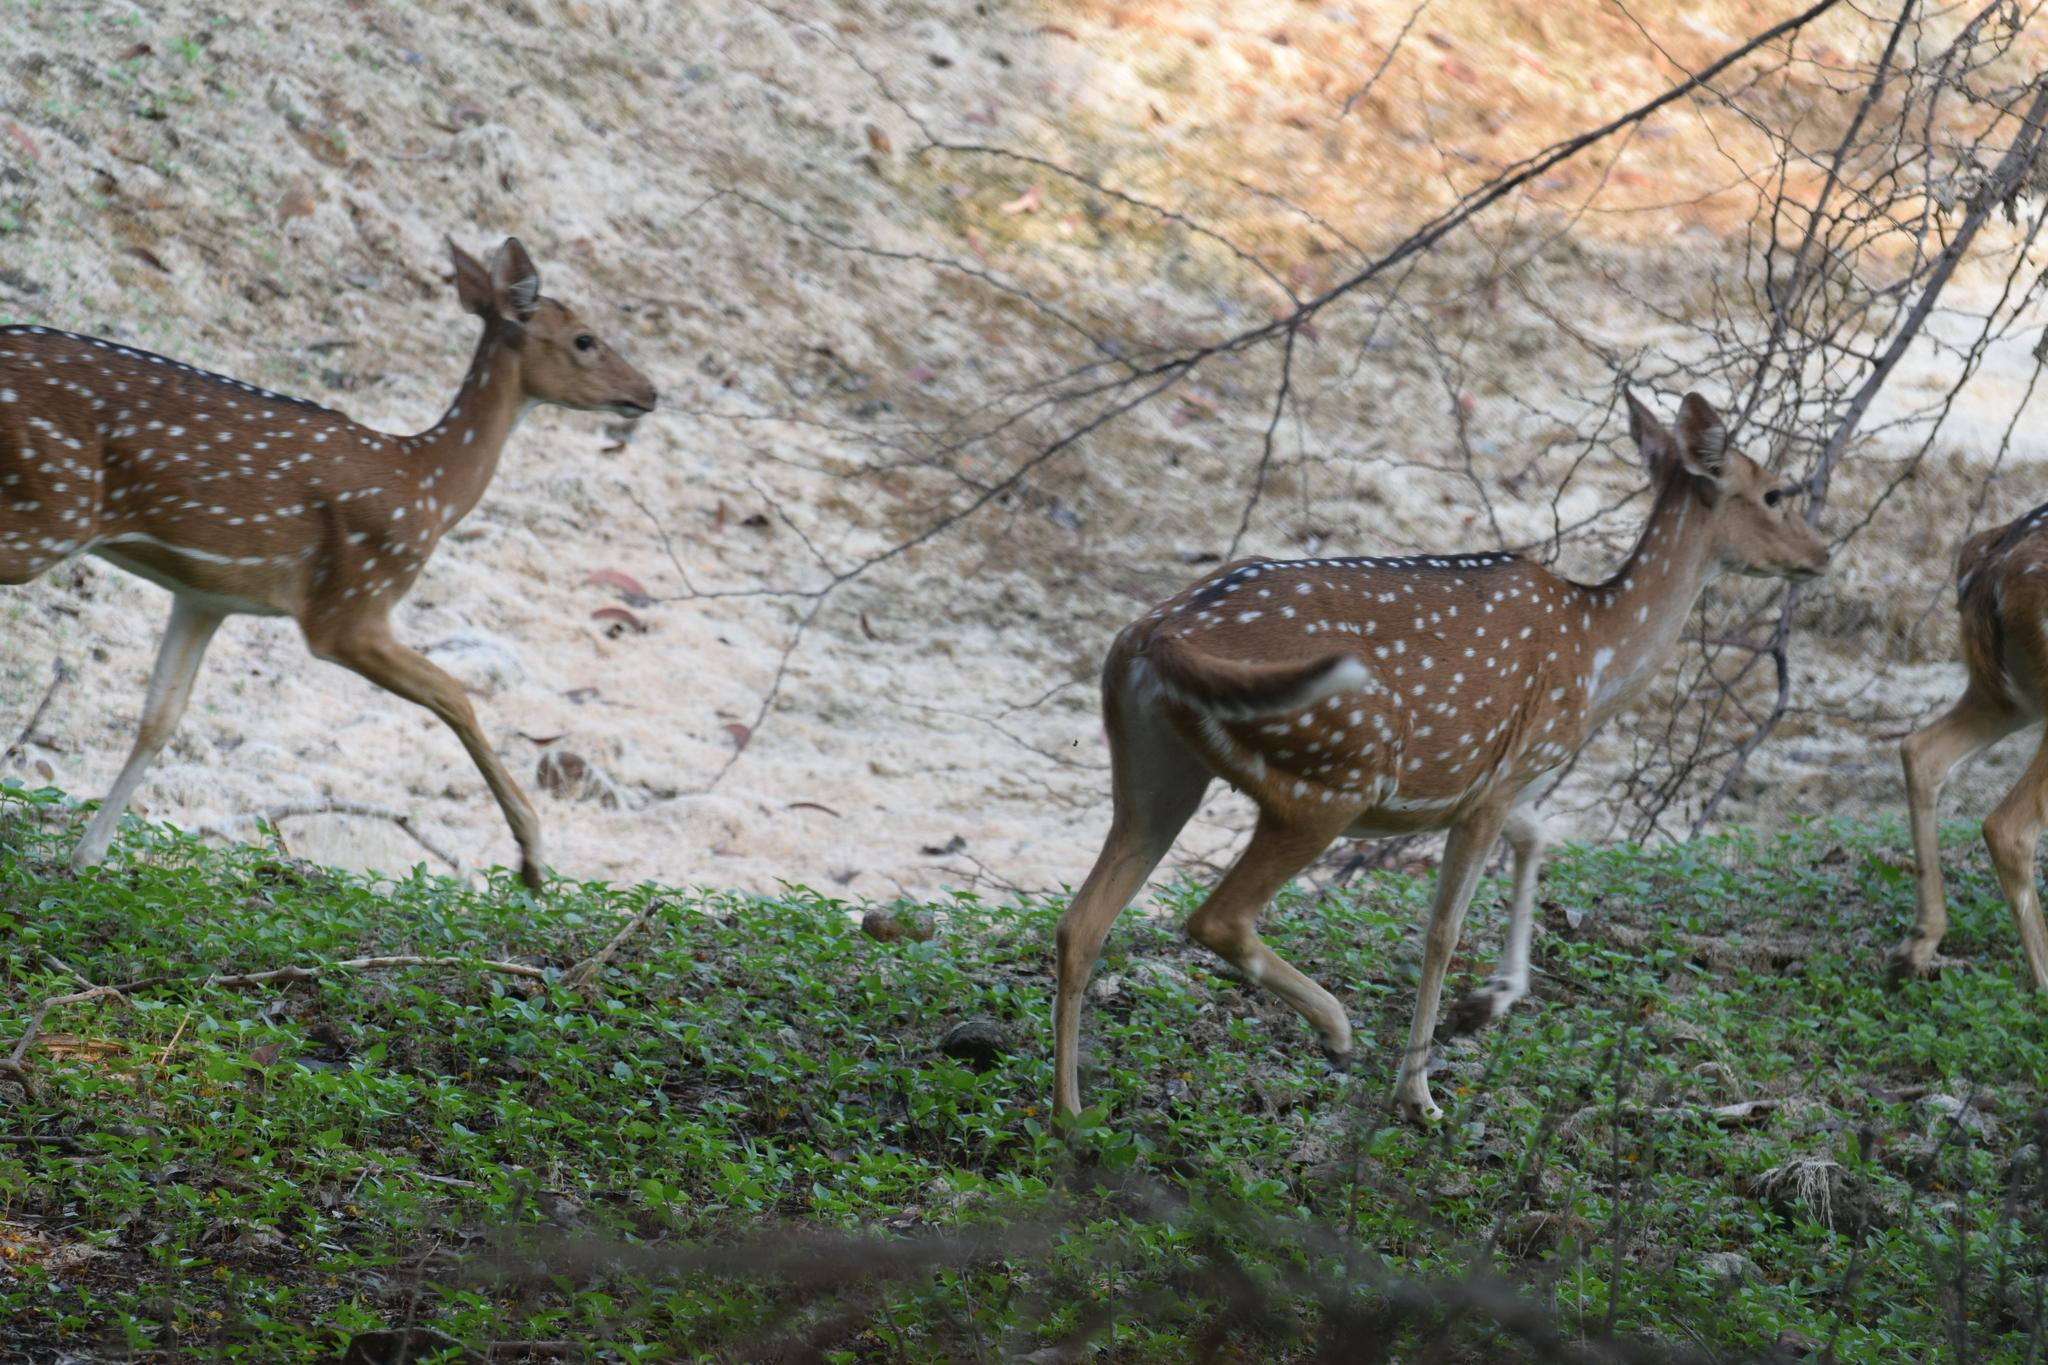Deer: (1055, 395, 1826, 1117), (0, 241, 655, 887)
